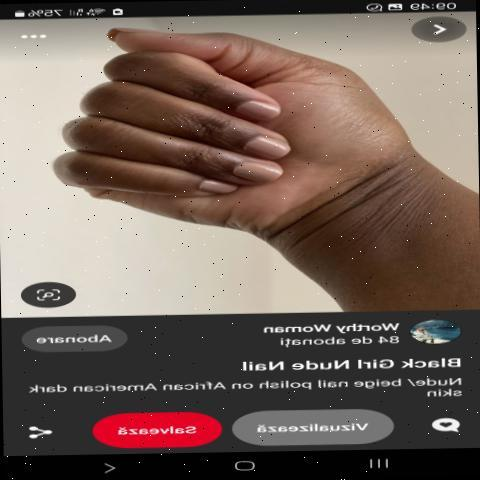Hands: (42, 16, 410, 274)
